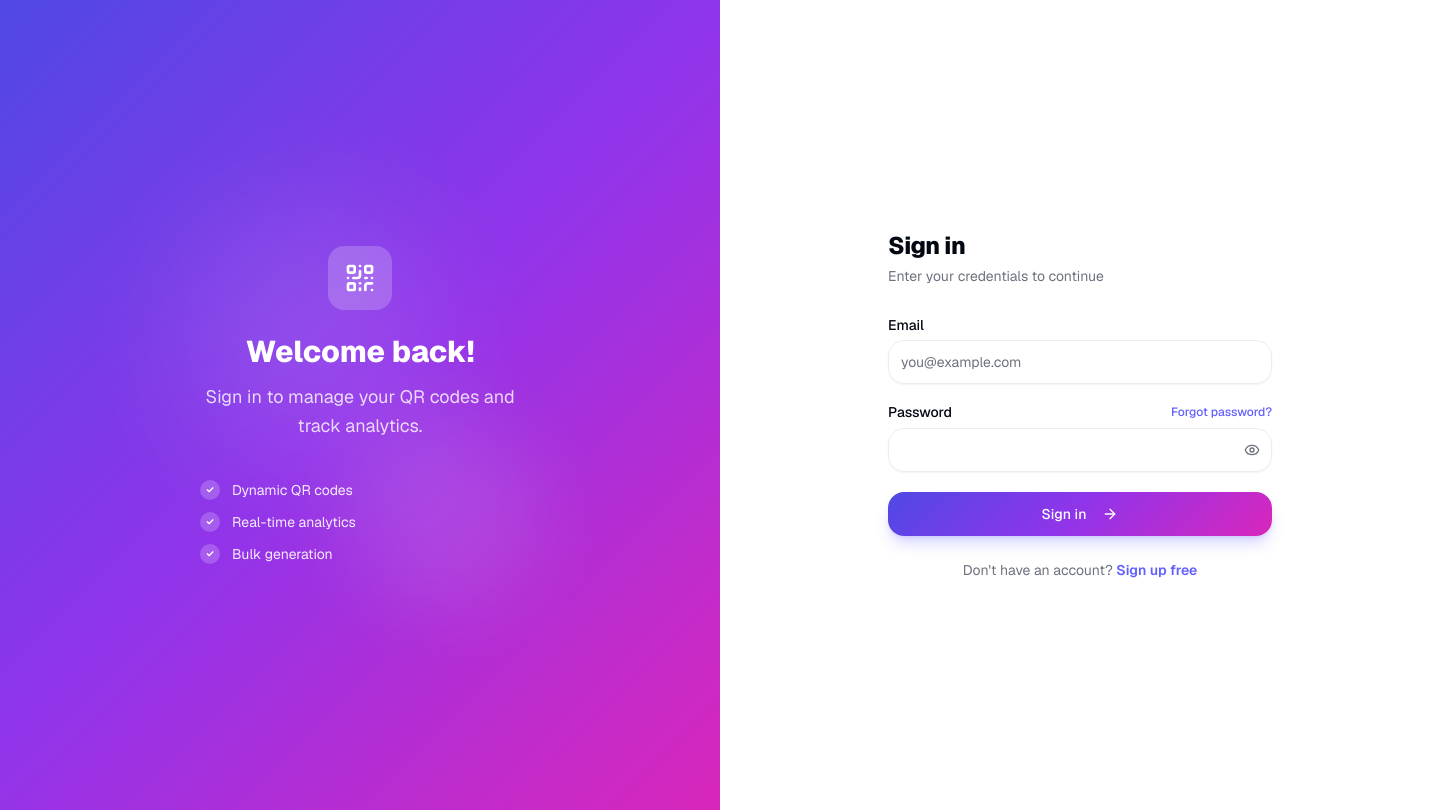
Test: Login page › displays error for locked account
Type "user@example.com" into the field labelled "Email" at point(1080, 362), box top-left (888, 340), bottom-right (1272, 384)
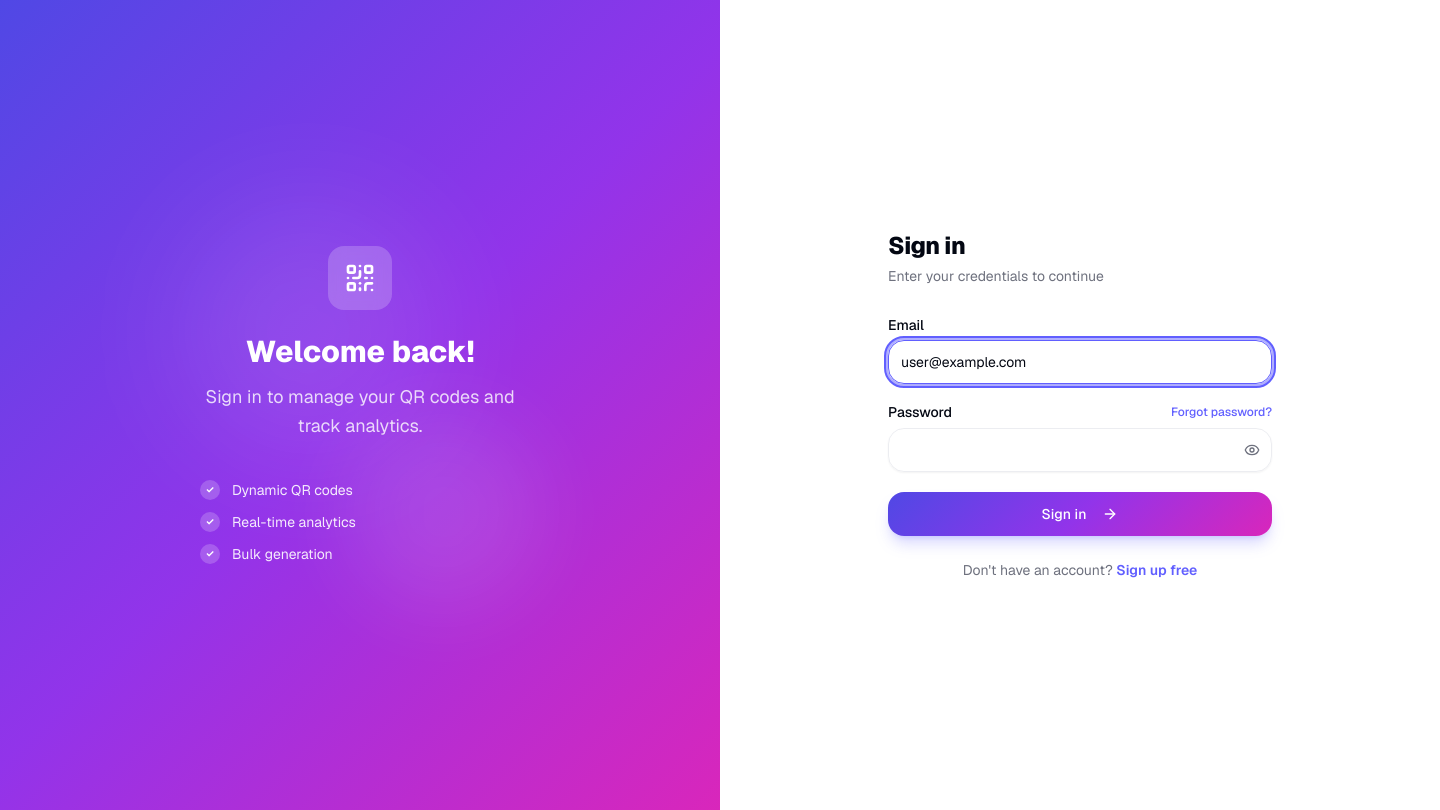
Type "Password1!" into the password field labelled "Password" at point(1080, 450), box top-left (888, 428), bottom-right (1272, 472)
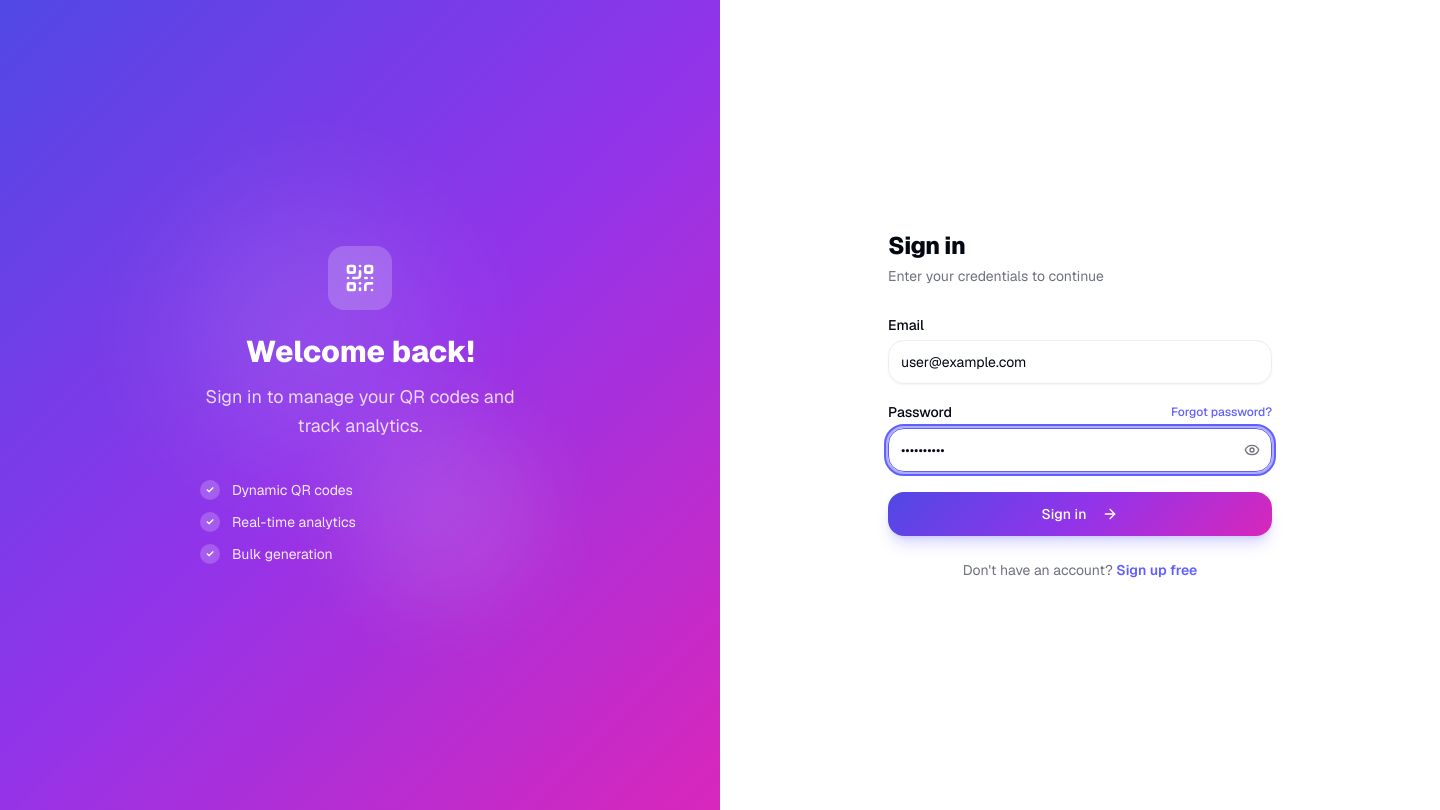
Click the button "Sign in" at point(1080, 514), box top-left (888, 492), bottom-right (1272, 536)
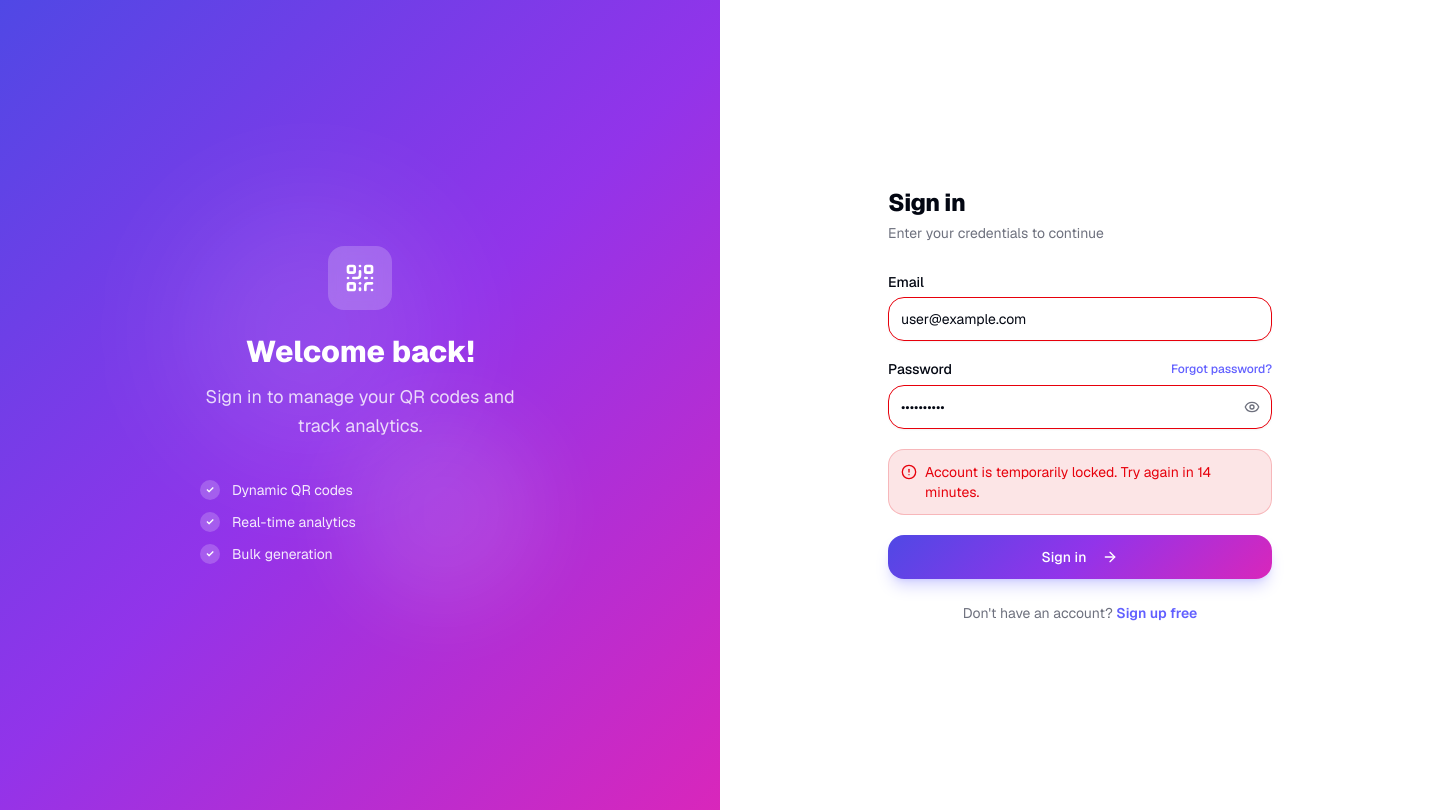
Now the text "Account is temporarily locked. Try again in 14 minutes." is shown, box top-left (925, 462), bottom-right (1259, 502)
